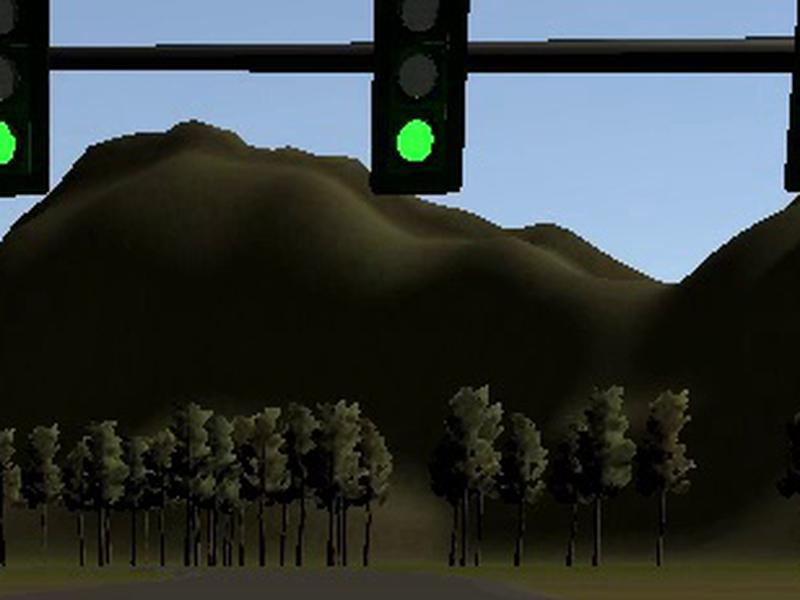Green: (369, 1, 473, 195), (1, 1, 48, 198)
